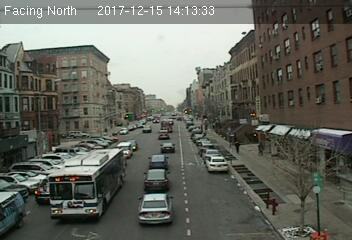bus: (44, 148, 123, 219)
car: (136, 193, 175, 227), (144, 169, 169, 191), (206, 155, 228, 173), (114, 142, 134, 159), (147, 154, 169, 168), (159, 143, 175, 154), (158, 129, 168, 138)
truck: (1, 189, 28, 238)
